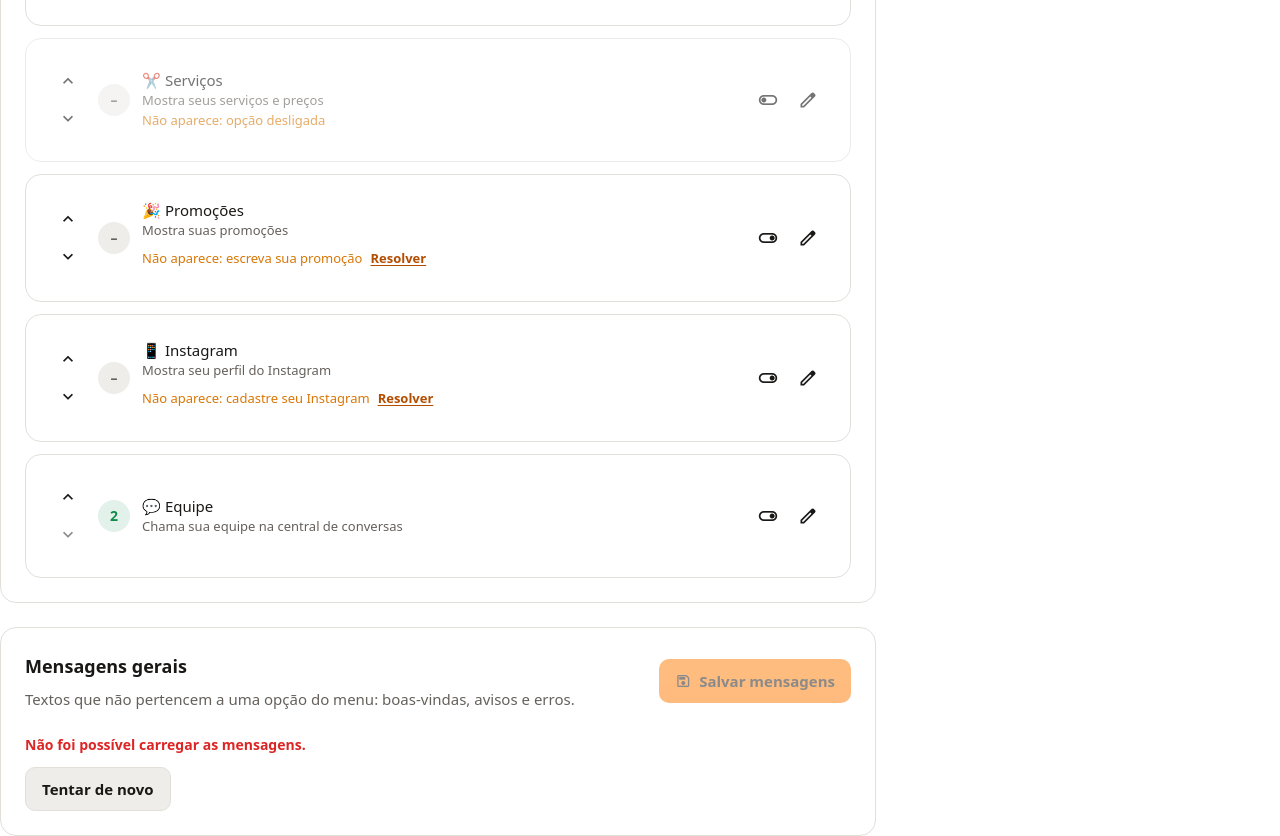
RoboAtendimento - carga dos textos › erro ao carregar mostra aviso e tenta de novo
(page scrolled)
Click the button "Tentar de novo": click(98, 789) top-left (25, 767), bottom-right (171, 811)
(page scrolled)
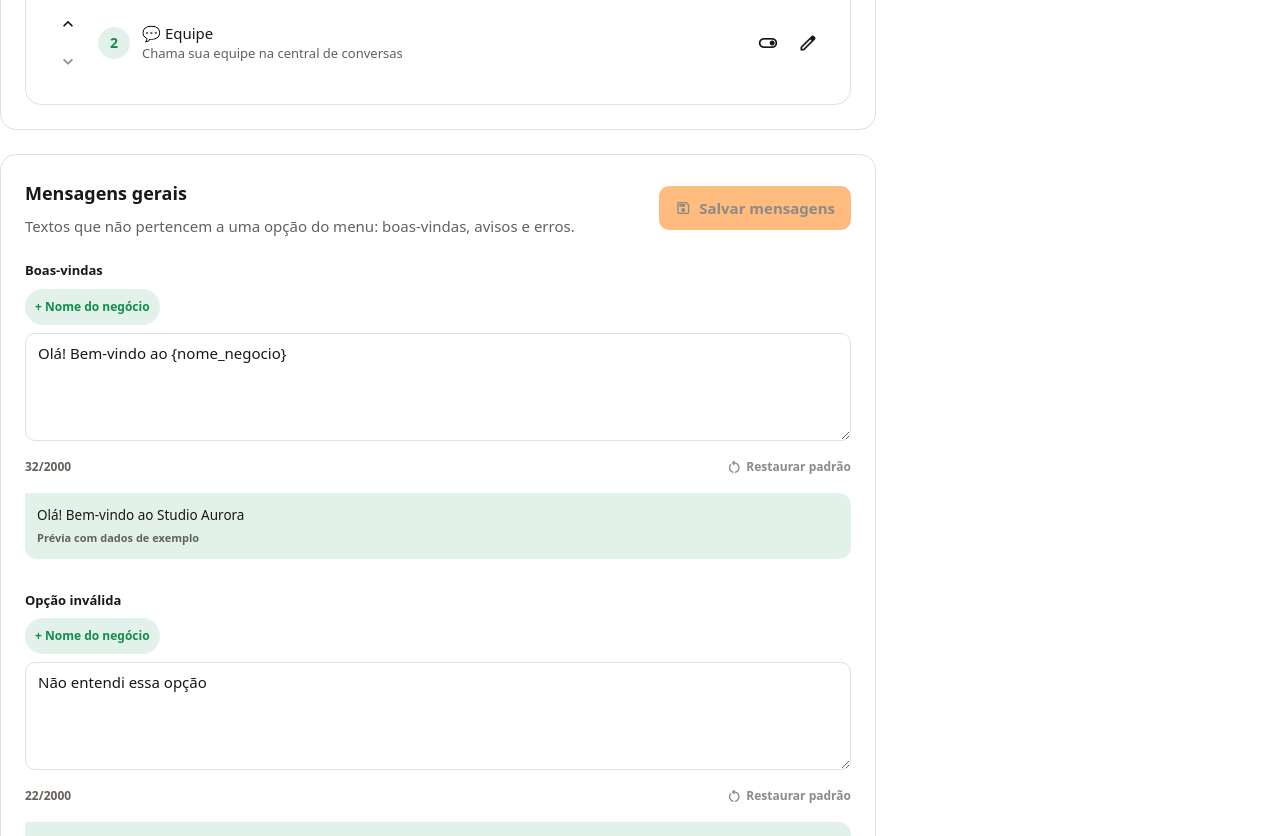
Expected: the text box labelled "Boas-vindas" is shown, top-left (25, 332), bottom-right (851, 440)
